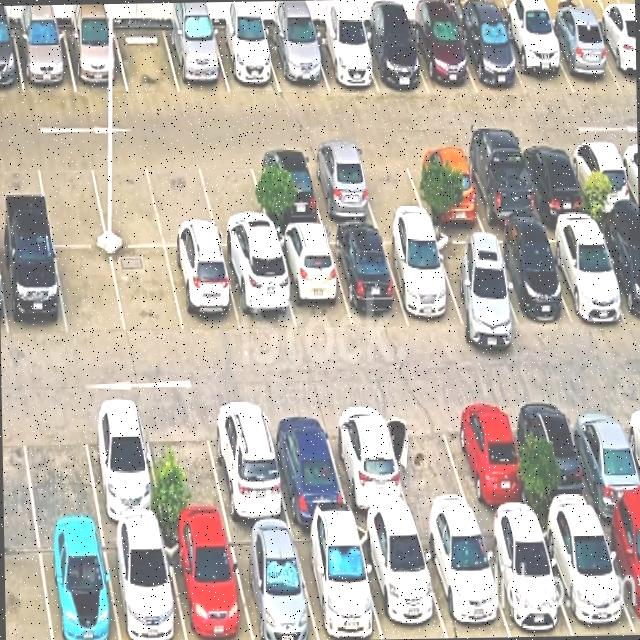empty: (380, 400, 476, 523), (142, 405, 228, 527), (19, 405, 100, 529), (196, 151, 272, 246), (89, 155, 164, 246), (146, 154, 218, 246), (35, 154, 107, 245), (110, 247, 183, 335), (54, 247, 125, 336), (353, 148, 427, 222), (114, 27, 179, 93)
occupied: (538, 516, 634, 636), (477, 521, 572, 637), (416, 522, 510, 638), (444, 398, 533, 520), (204, 400, 290, 525), (322, 402, 413, 520), (355, 525, 447, 639), (291, 525, 382, 640), (226, 528, 318, 640), (263, 404, 349, 523), (80, 404, 163, 526), (514, 397, 597, 519), (163, 527, 252, 640), (102, 528, 185, 640), (37, 529, 119, 640), (566, 396, 640, 515), (540, 221, 627, 320), (484, 228, 570, 324), (432, 229, 517, 326), (379, 230, 463, 326), (273, 230, 351, 331), (327, 229, 407, 326), (165, 247, 241, 333), (221, 247, 296, 331), (0, 243, 66, 337), (459, 145, 537, 222), (249, 150, 324, 228), (407, 147, 482, 221), (304, 149, 377, 225), (499, 23, 574, 96), (544, 22, 621, 93), (517, 141, 588, 216), (598, 513, 640, 635), (566, 141, 636, 213), (456, 22, 526, 93), (409, 21, 476, 94), (594, 220, 640, 325), (359, 26, 428, 92), (212, 27, 280, 93), (163, 26, 229, 93), (310, 29, 378, 92), (63, 27, 127, 92), (13, 28, 75, 93), (265, 30, 328, 92), (593, 23, 636, 92)
